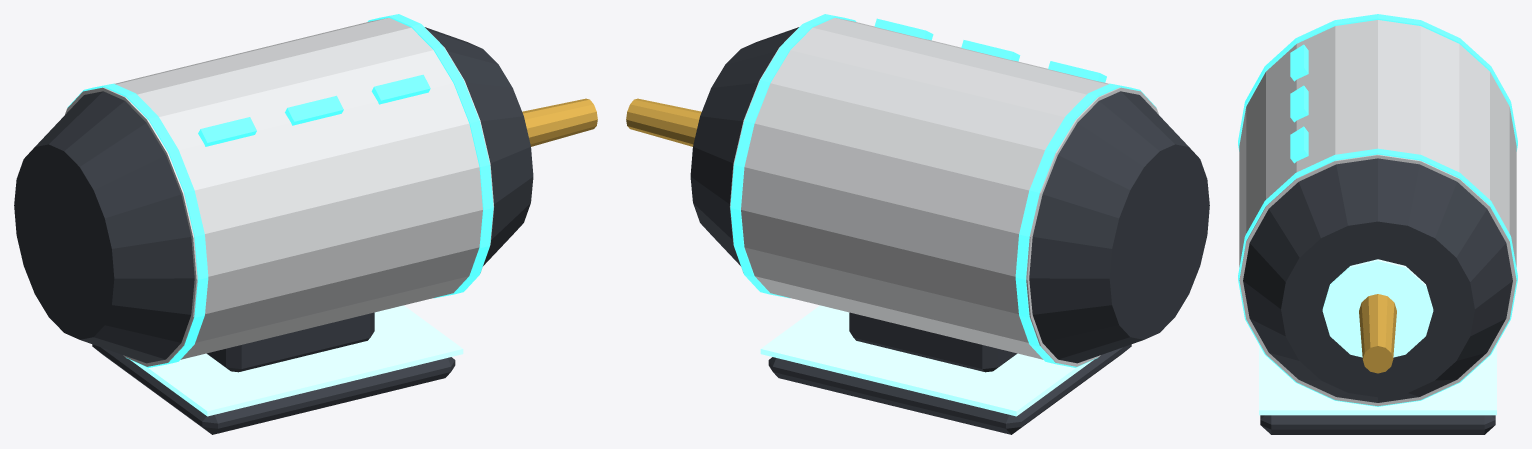
Rendered from motor_space.glb.
The picture shows the model from 3 angles, left to right: view 1: azimuth 30°, elevation 25°; view 2: azimuth 150°, elevation 25°; view 3: azimuth 270°, elevation 25°; orthographic projection. The views are drawn at different scales.
Visible parts, largest first — view 1: motor_space; view 2: motor_space; view 3: motor_space.
Boxes of the visible parts, x1,y1,x2,y2 form: motor_space: (14,14,597,434); motor_space: (626,14,1209,434); motor_space: (1238,14,1517,434).
Bounding box in the file's own units: 0.424 × 0.236 × 0.202.
